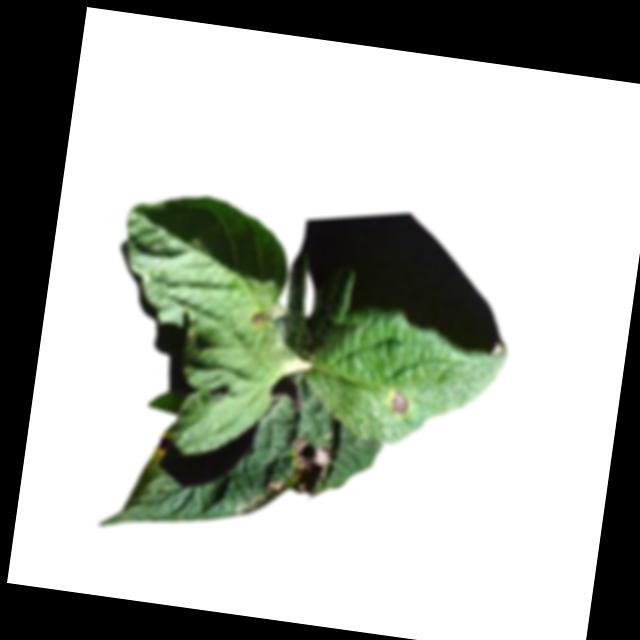Early_blight: (281, 435, 333, 500), (391, 390, 409, 415), (249, 312, 265, 328)
